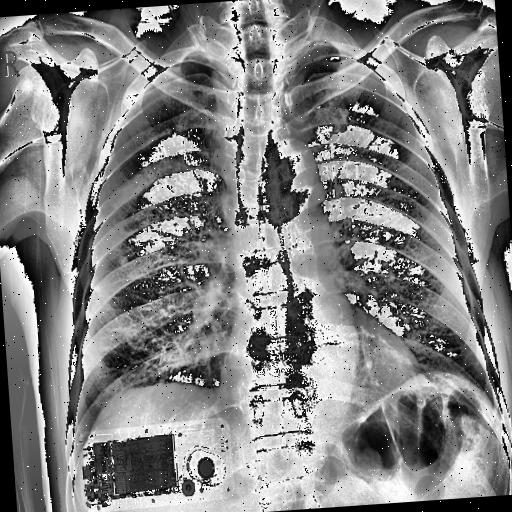0- Aortic enlargement: (243, 134, 321, 230), (256, 140, 332, 230), (264, 138, 325, 219)
8- Nodule-Mass: (119, 254, 128, 270)
9- Other lesion: (110, 146, 190, 208), (122, 87, 138, 107), (119, 254, 128, 270)
